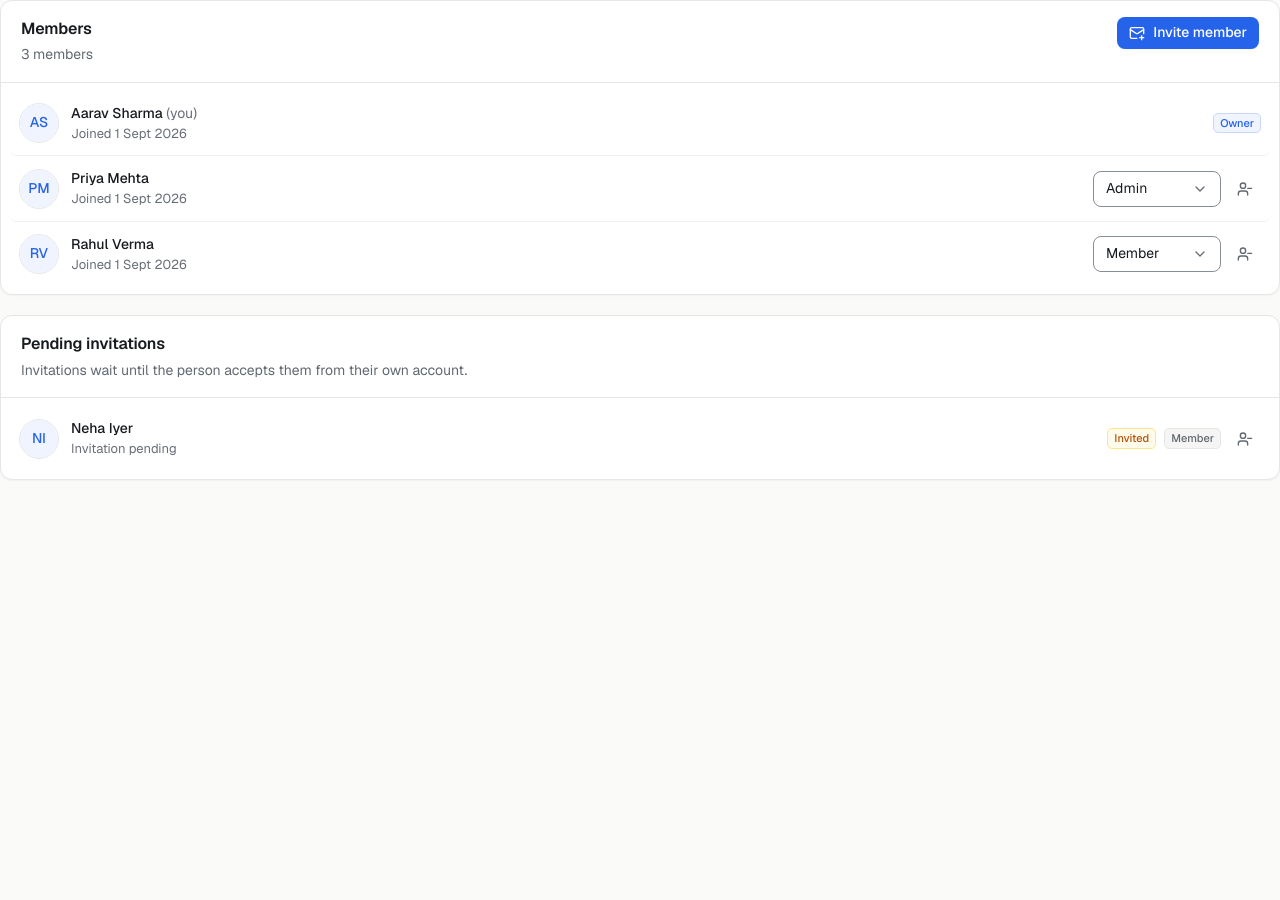
it: TeamManager › invites by email with a role, and shows a refusal inline
Click the button "Invite member".
click(1188, 33)  # box x1=1117 y1=17 x2=1259 y2=49
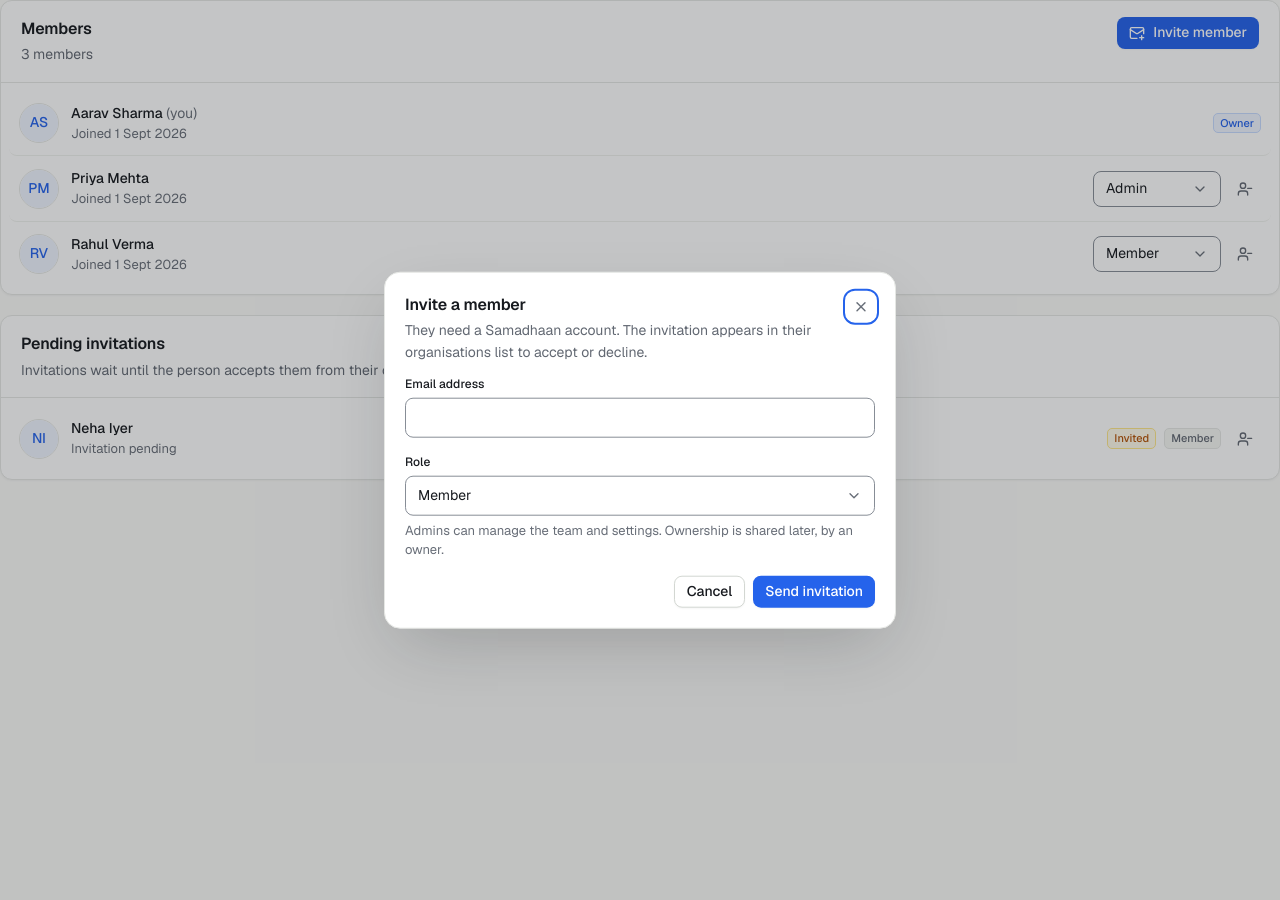
Type "kabir@example.org" into the field labelled "Email address".
click(640, 417); type("kabir@example.org")  # box x1=405 y1=397 x2=875 y2=437
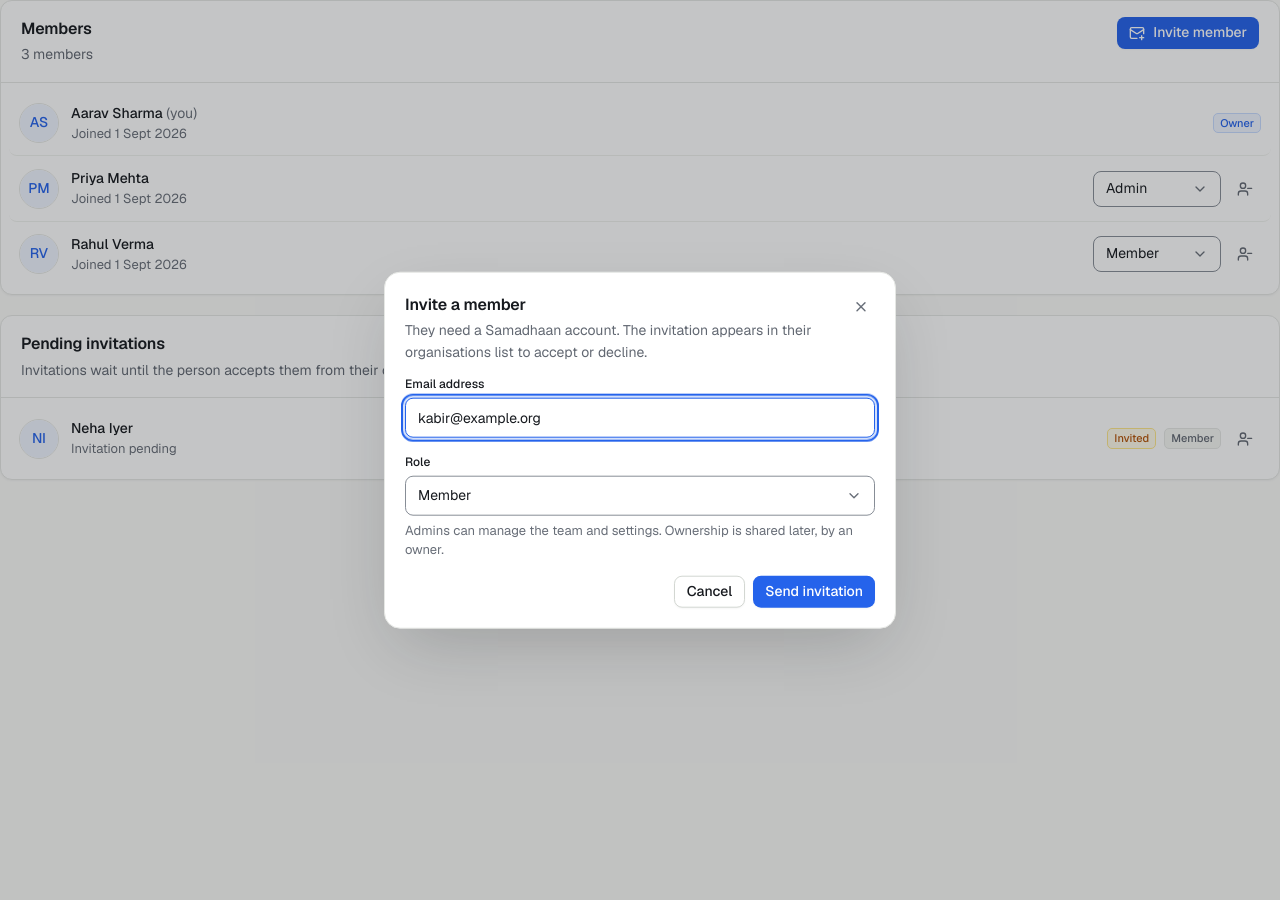
Click the dropdown named "Role".
click(445, 495)  # box x1=405 y1=476 x2=875 y2=516
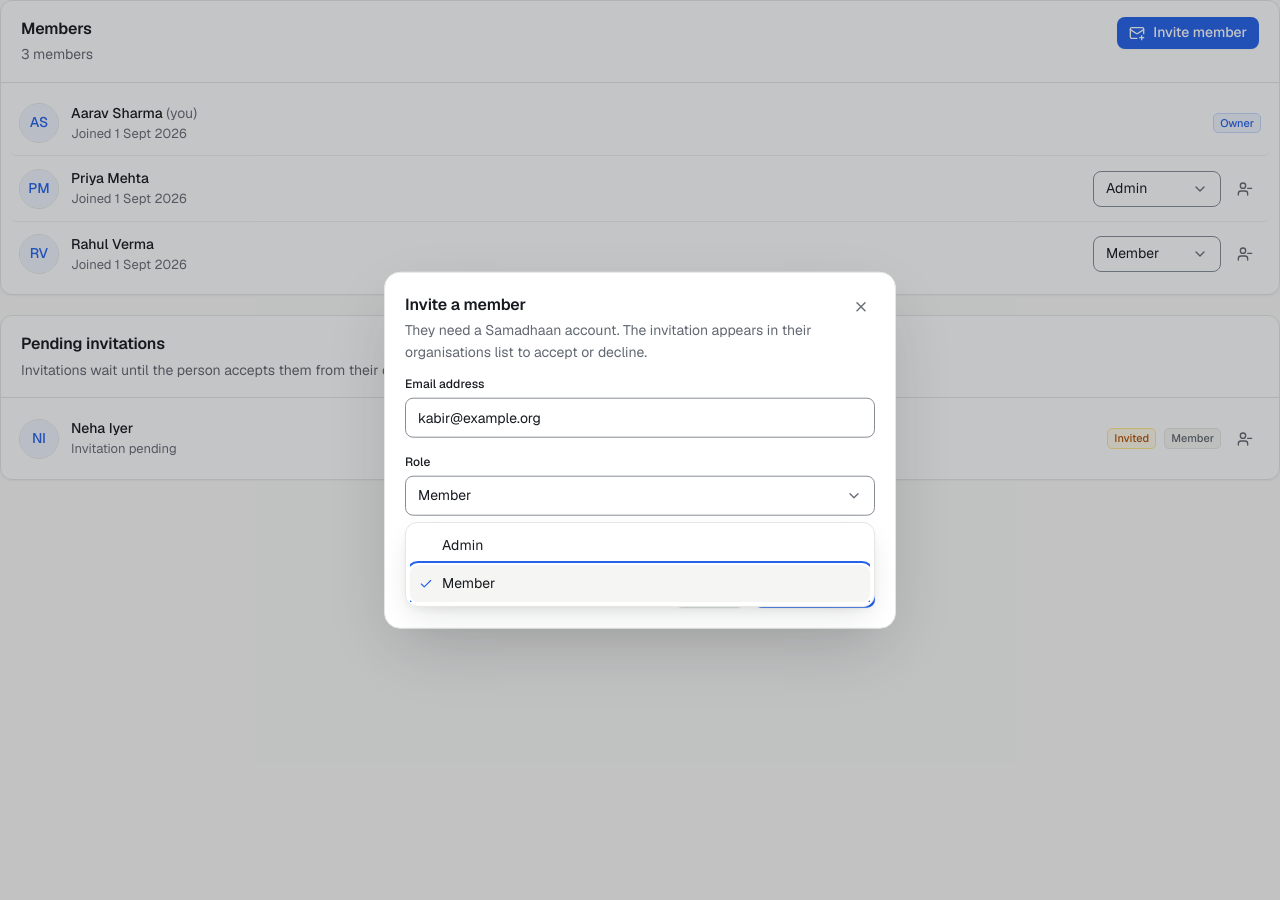
Result: the options read "Admin", "Member", in this order
Click the option "Admin".
click(463, 545)  # box x1=442 y1=536 x2=483 y2=554
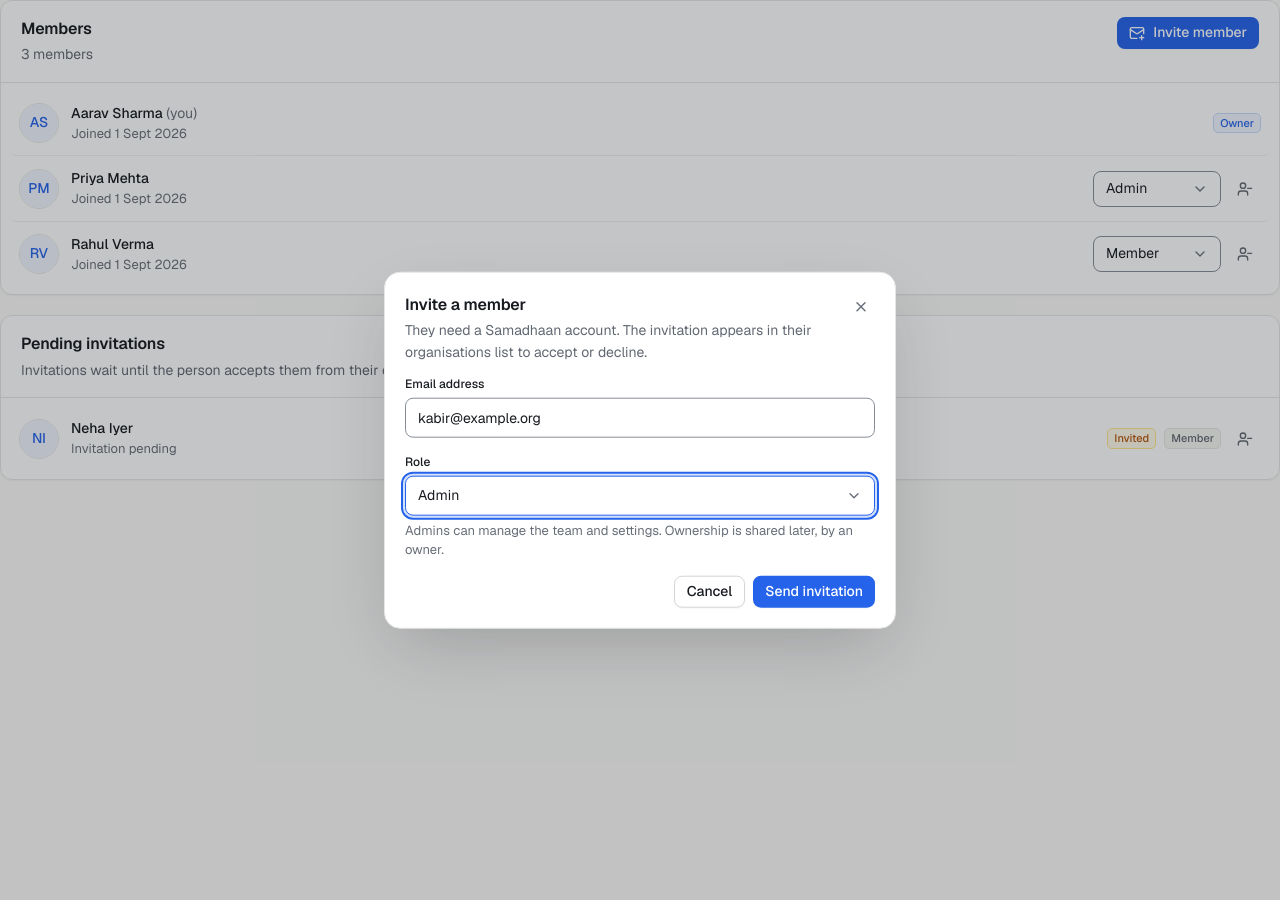
Click the button "Send invitation".
click(814, 591)  # box x1=753 y1=575 x2=875 y2=607
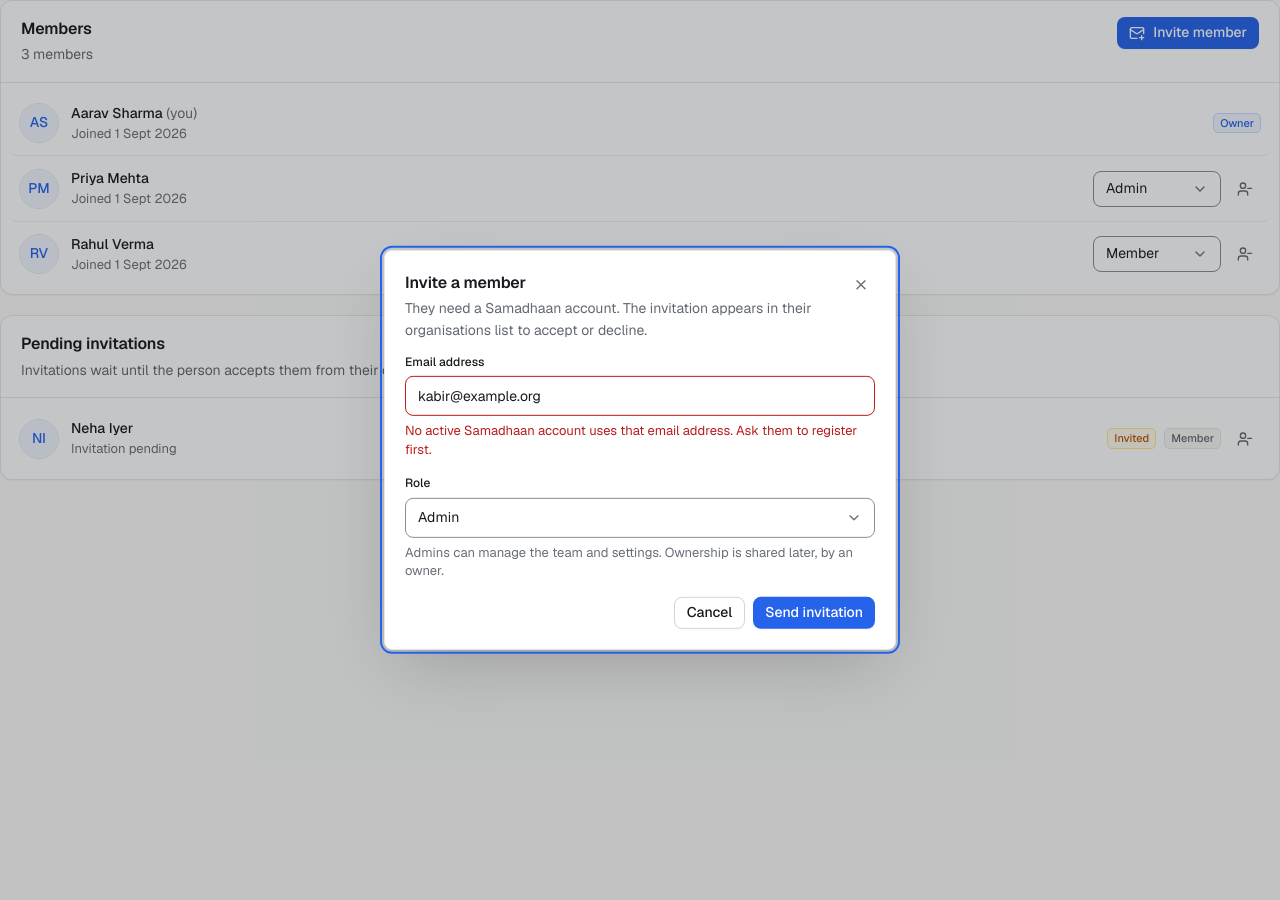
Result: the text "No active Samadhaan account uses that email" is shown at x1=405 y1=422 x2=857 y2=457
Click the button "Send invitation".
click(814, 613)  # box x1=753 y1=597 x2=875 y2=629
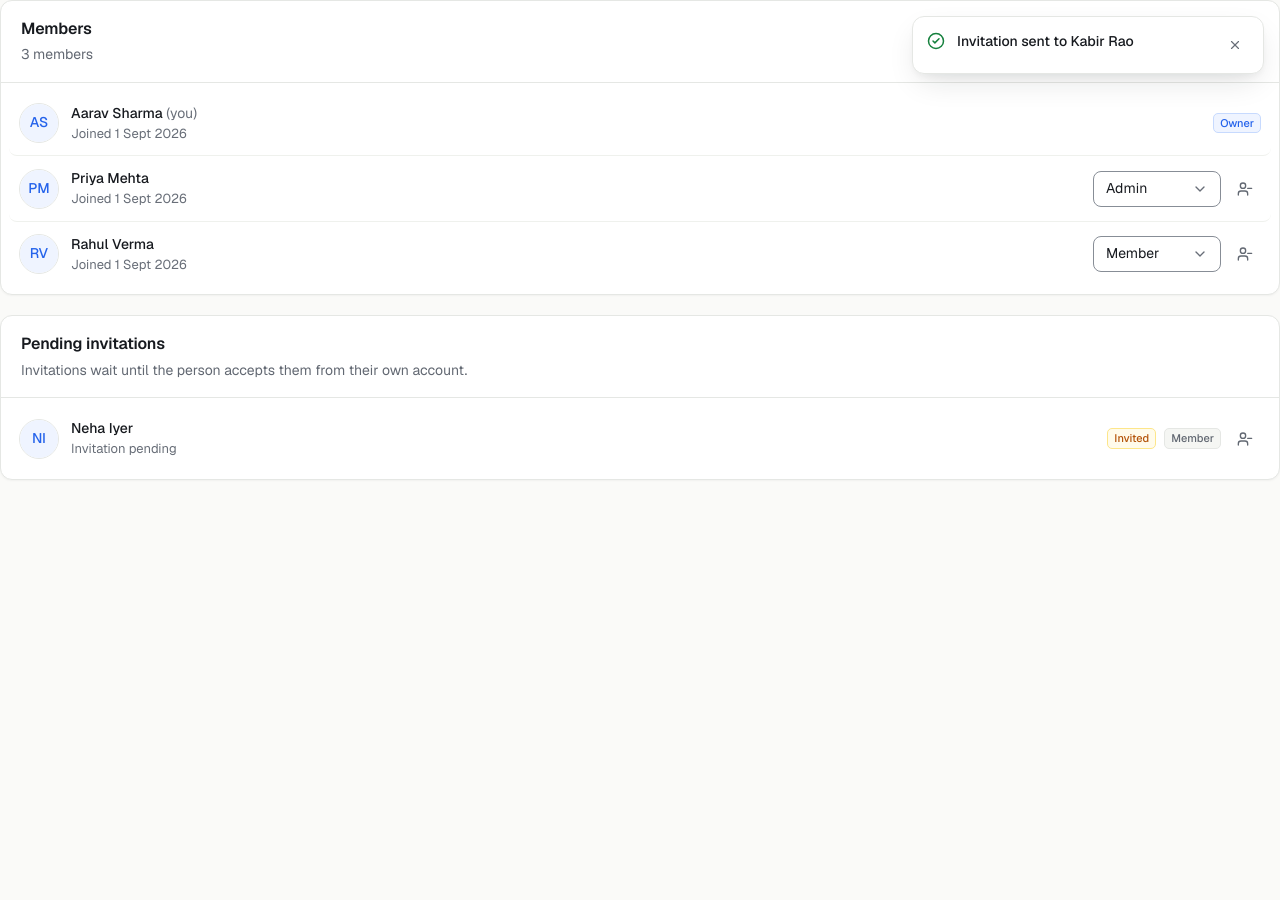
Result: the text "Invitation sent to Kabir Rao" is shown at x1=957 y1=32 x2=1134 y2=50
